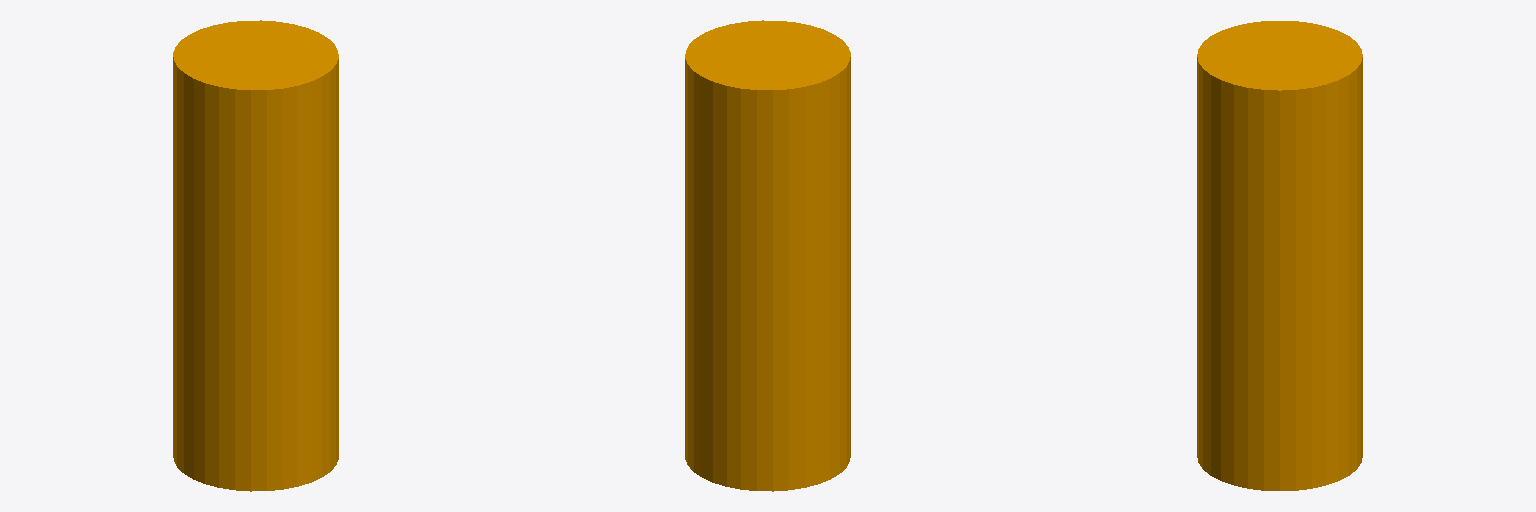
robot.urdf — cylinder:
<?xml version="1.0"?>
<robot xmlns:xacro="http://www.ros.org/wiki/xacro" name="cylinder">

	<link name="cylinder">
		<inertial>
			<mass value="2.5"/>
			<inertia  ixx="0.002385" ixy="0.00"  ixz="0.00" iyy="0.002385" iyz="0.00" izz="0.00027" />
		</inertial>
		<visual>
			<origin xyz="0 0 0" rpy="0 0 0"/>
			<geometry>
				<cylinder length="0.08" radius="0.015"/>
			</geometry>
		</visual>
		<collision>
			<origin xyz="0 0 0" rpy="0 0 0"/>
			<geometry>
				<cylinder length="0.08" radius="0.015"/>
			</geometry>
		</collision>
	</link>

</robot>

--- Facts derived from the render (not from the file) ---
The picture shows the robot from 3 angles, left to right: view 1: azimuth 30°, elevation 25°; view 2: azimuth 150°, elevation 25°; view 3: azimuth 270°, elevation 25°; orthographic projection.
Robot: cylinder — 1 links, 0 joints (none); root link cylinder; default pose: every joint at zero.
Links seen in each view (by area): view 1: cylinder; view 2: cylinder; view 3: cylinder.
Link boxes in pixels (x1,y1,x2,y2): cylinder: (173,20,338,491); cylinder: (685,20,850,491); cylinder: (1197,21,1362,490).
Bounding box of the posed robot: 0.03 × 0.03 × 0.08 m (x, y, z).
Geometry: primitives only (box / cylinder / sphere), no mesh files.